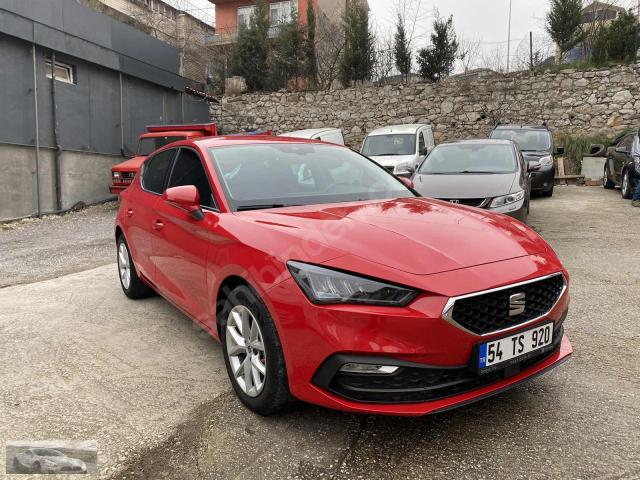plaka: (477, 322, 553, 369)
